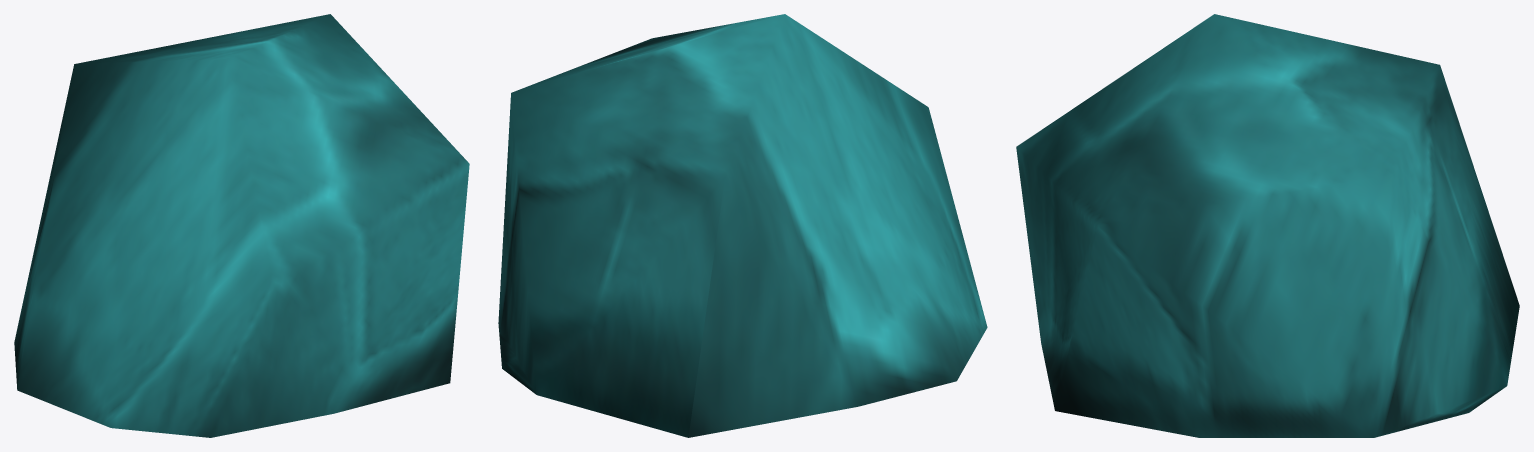
The model's file is Stones2.fbx.
3 views of the same model, side by side, from view 1: azimuth 30°, elevation 25°; view 2: azimuth 150°, elevation 25°; view 3: azimuth 270°, elevation 25° (orthographic). The views are drawn at different scales.
Visible parts, largest first — view 1: Stones2; view 2: Stones2; view 3: Stones2.
Part boxes in pixels (bbox=[...]): Stones2: bbox=[14, 14, 469, 437]; Stones2: bbox=[498, 14, 987, 437]; Stones2: bbox=[1016, 14, 1519, 437].
Bounding box in the file's own units: 8.08 × 5.92 × 8.4.
